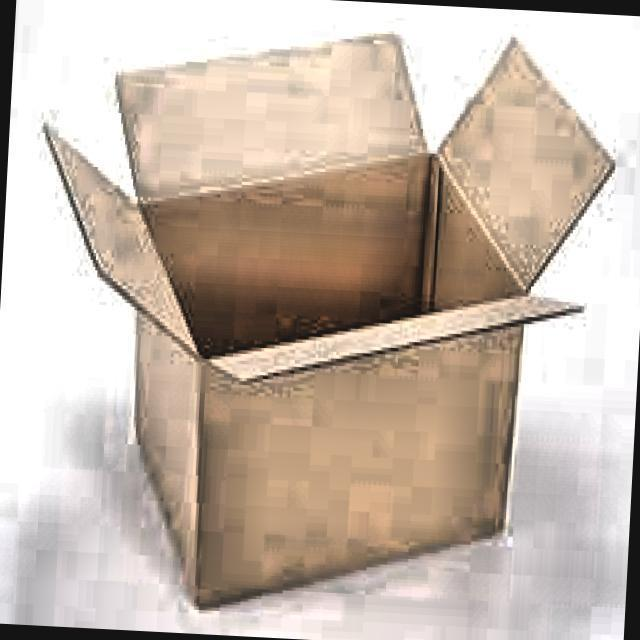cardboard: (16, 6, 619, 627)
